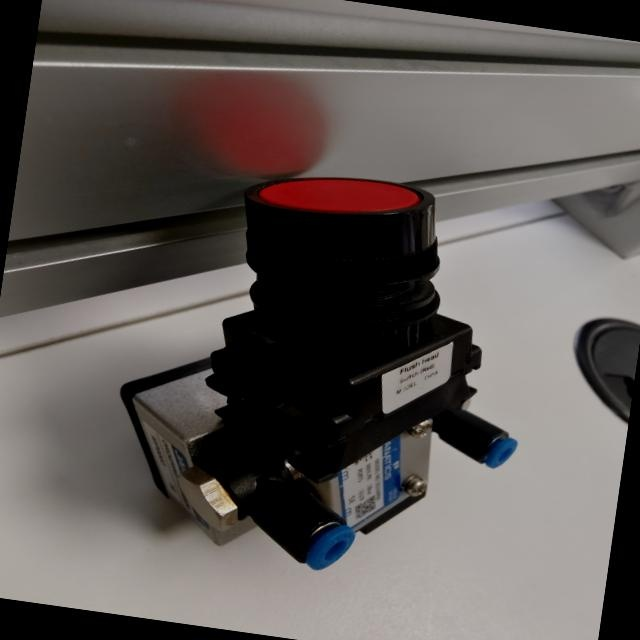push button: (99, 148, 552, 596)
